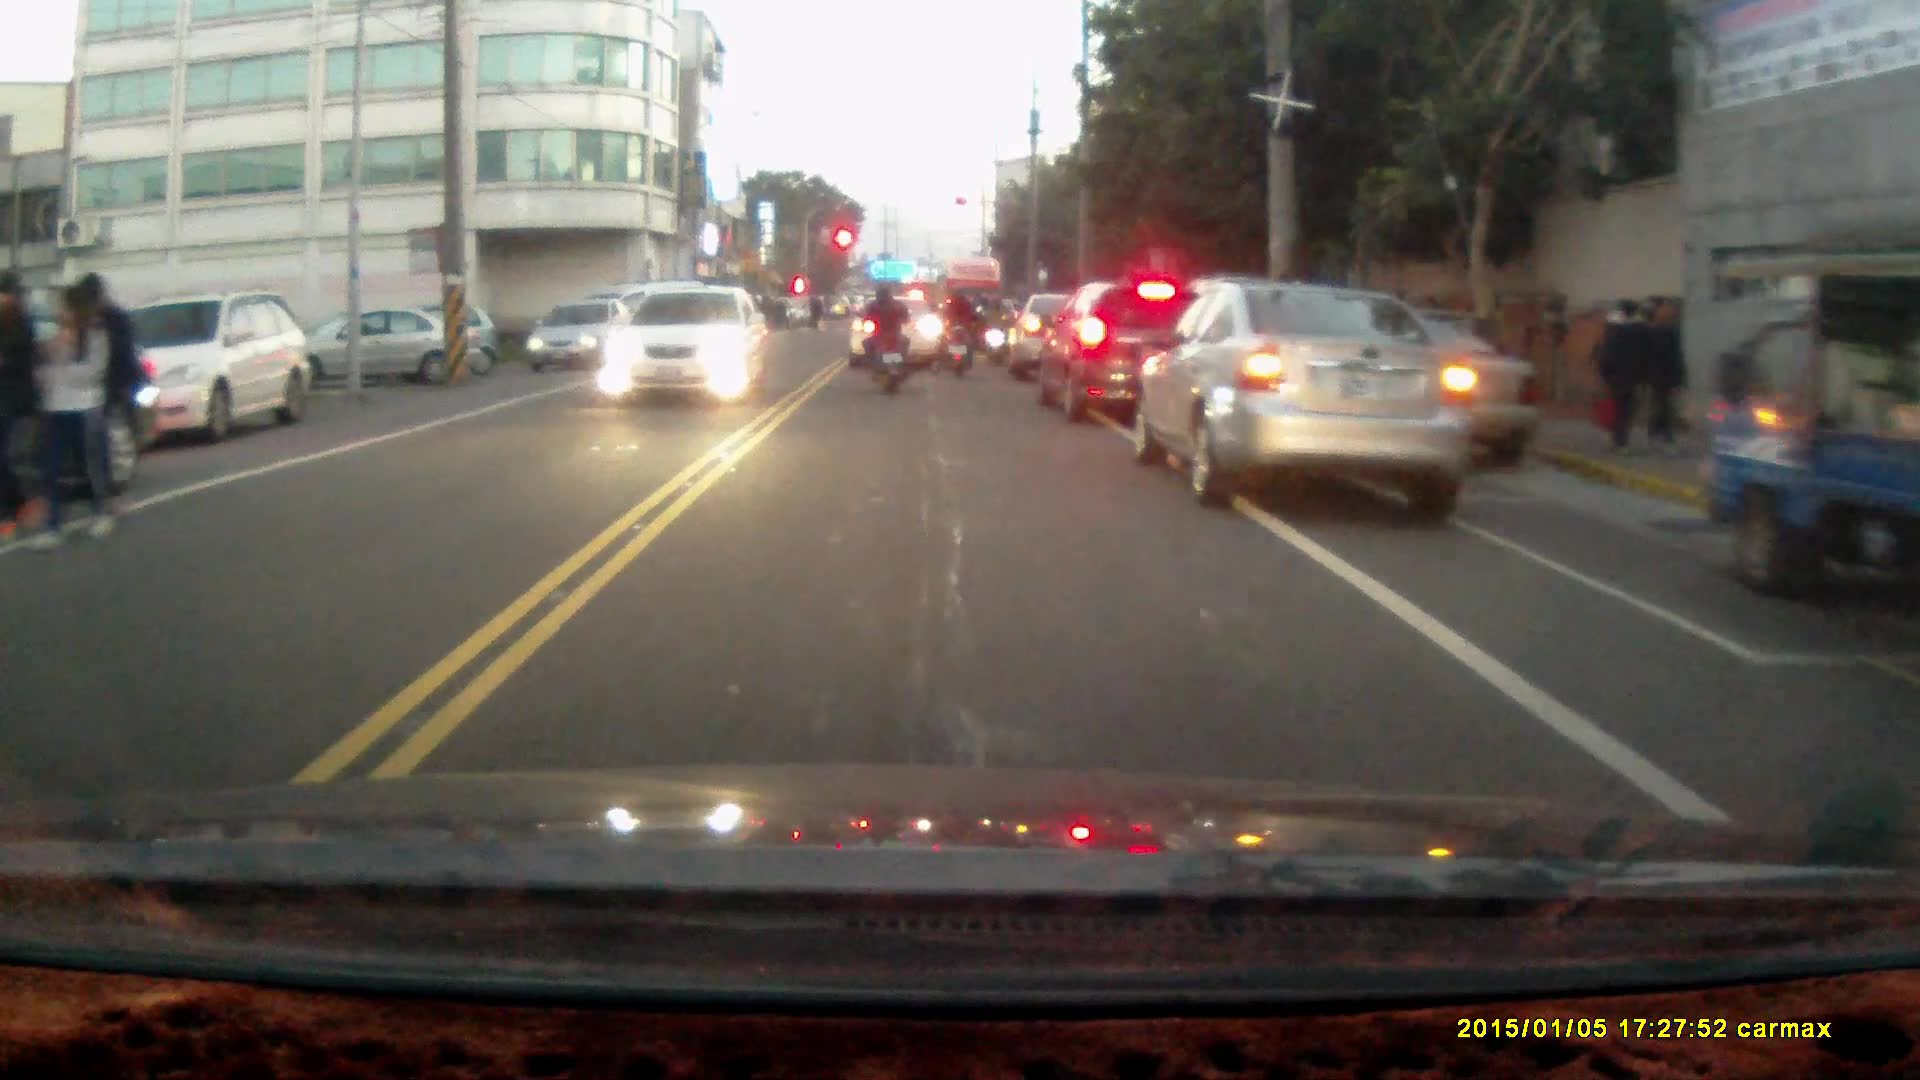pedestrian: (27, 278, 106, 554), (1632, 291, 1689, 449), (1596, 294, 1651, 453)
rider: (857, 275, 908, 393), (935, 280, 983, 377)
vehicle: (1701, 219, 1920, 619), (1140, 277, 1476, 512), (56, 289, 312, 444), (1, 306, 164, 531), (1041, 277, 1195, 420), (596, 283, 768, 402), (302, 304, 485, 383), (529, 296, 636, 369), (851, 292, 949, 366)
